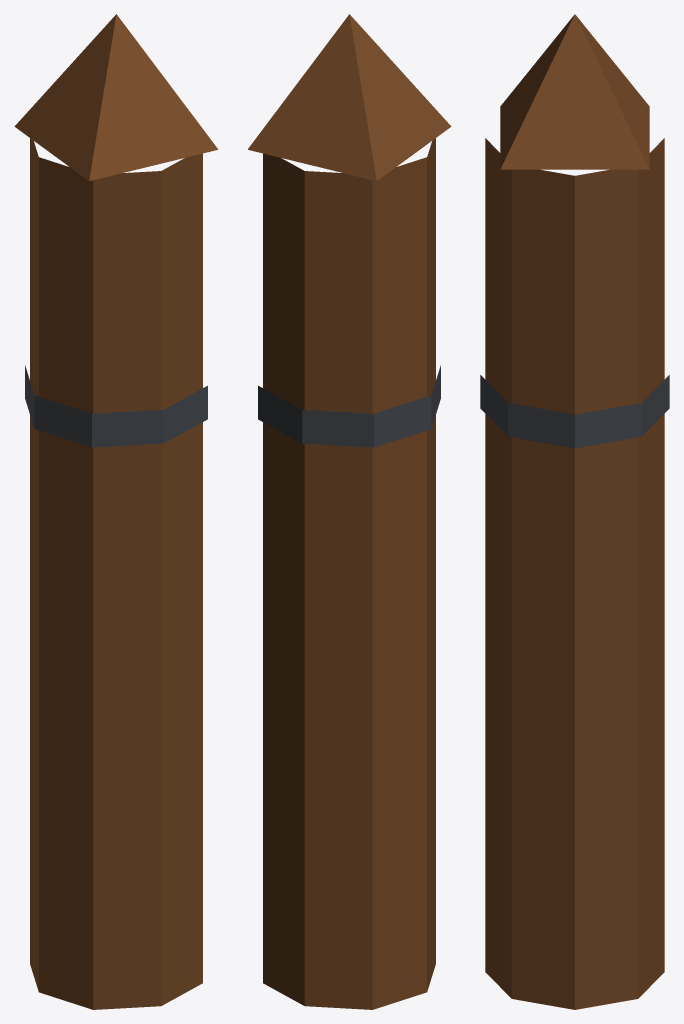
The model's file is camp_wall_post.glb.
3 views of the same model, side by side, from view 1: azimuth 30°, elevation 25°; view 2: azimuth 150°, elevation 25°; view 3: azimuth 270°, elevation 25° (orthographic).
Visible parts, largest first — view 1: camp_wall_post; view 2: camp_wall_post; view 3: camp_wall_post.
Boxes of the visible parts, left/top/right/bottom form: camp_wall_post: left=14, top=14, right=217, bottom=1009; camp_wall_post: left=248, top=14, right=451, bottom=1009; camp_wall_post: left=480, top=14, right=669, bottom=1009.
Bounding box in the file's own units: 0.76 × 4.25 × 0.76.
1 material, 1 textured.
